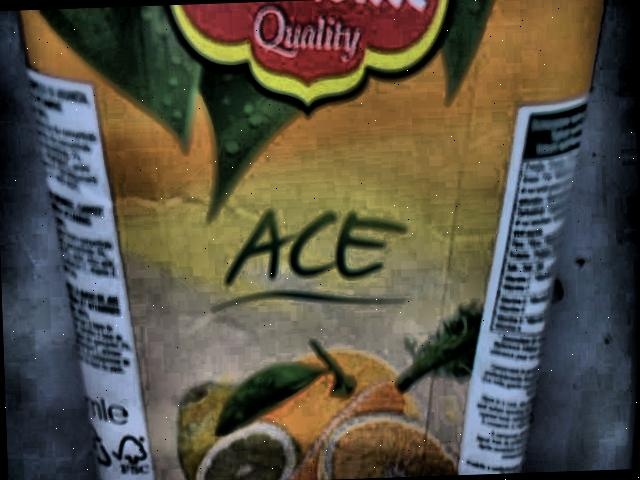Paper: (17, 0, 612, 480)
